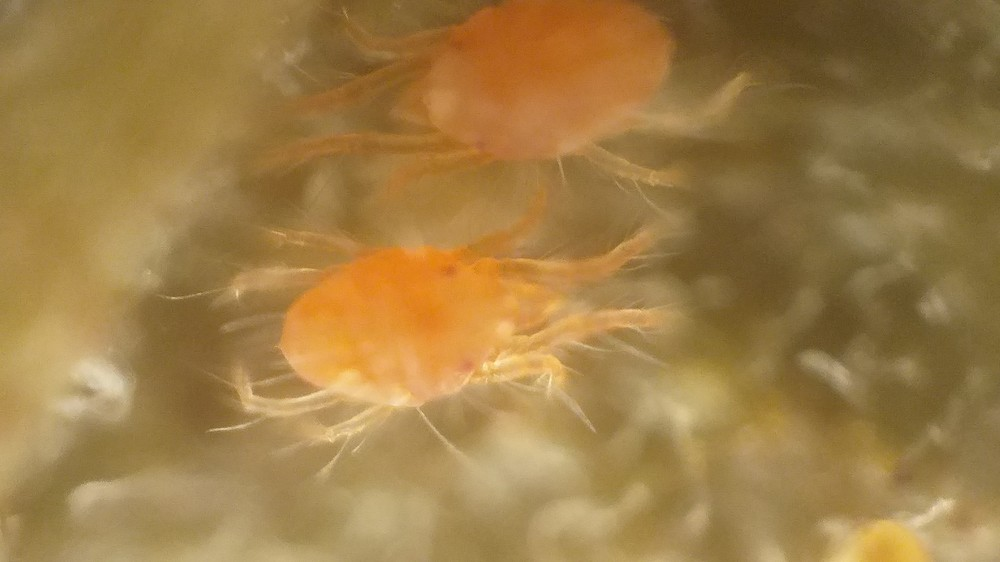Aracnido Rojo: (204, 203, 709, 460), (260, 5, 772, 207)
